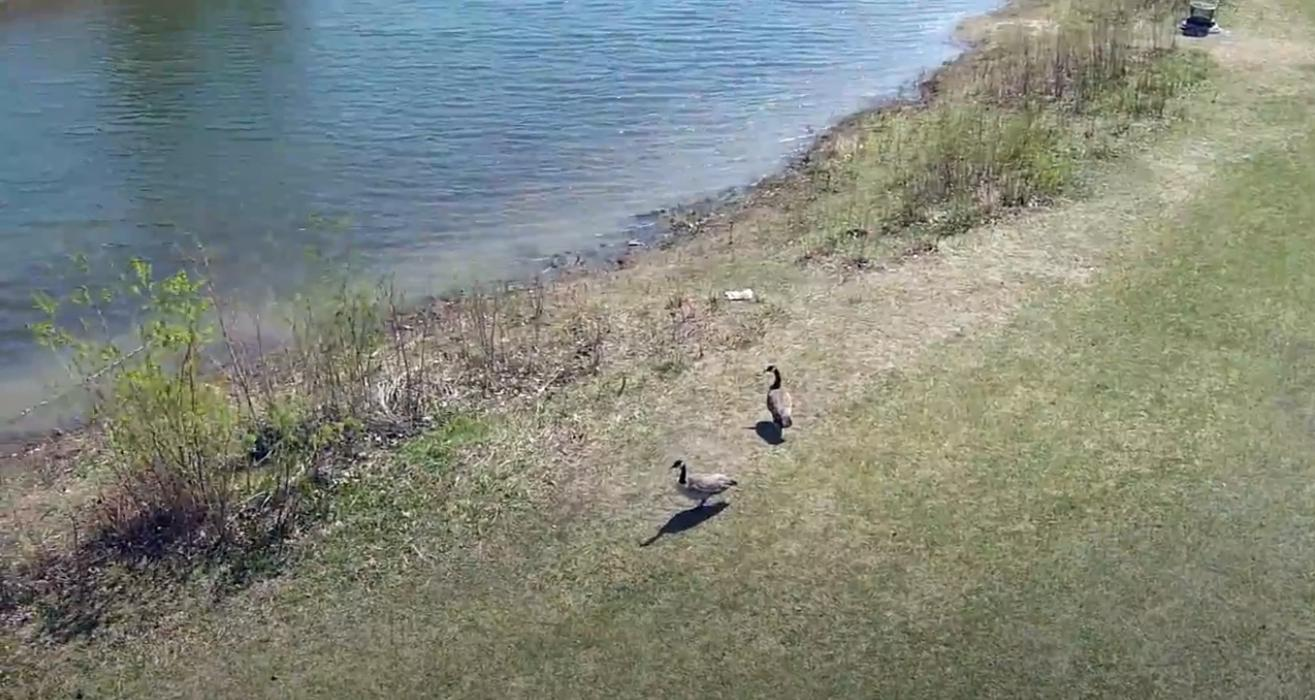goose: (665, 453, 738, 505), (753, 361, 797, 435)
